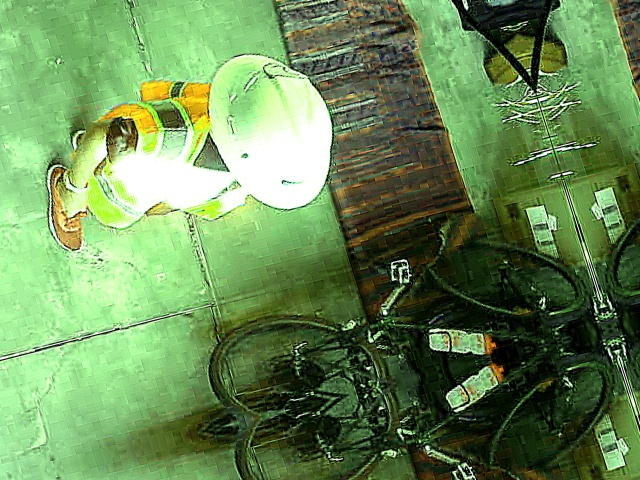two: (260, 53, 310, 88)
